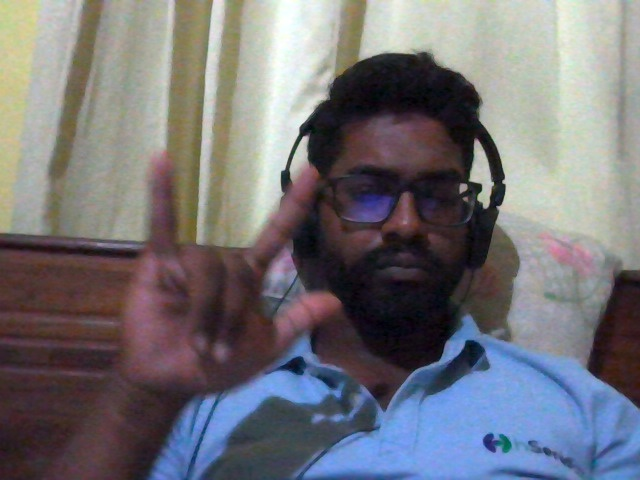I Love You: (106, 141, 349, 403)
